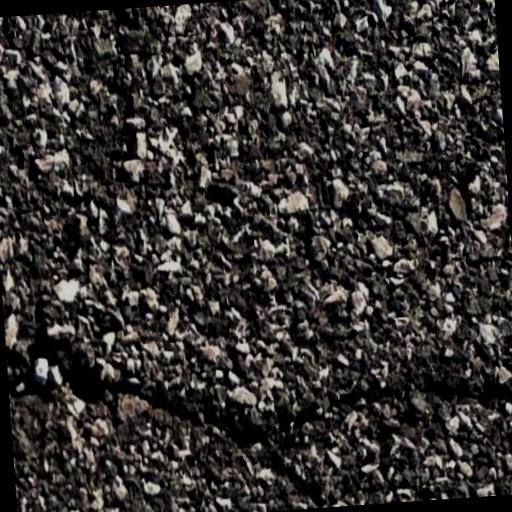spalling: (18, 327, 512, 457)
